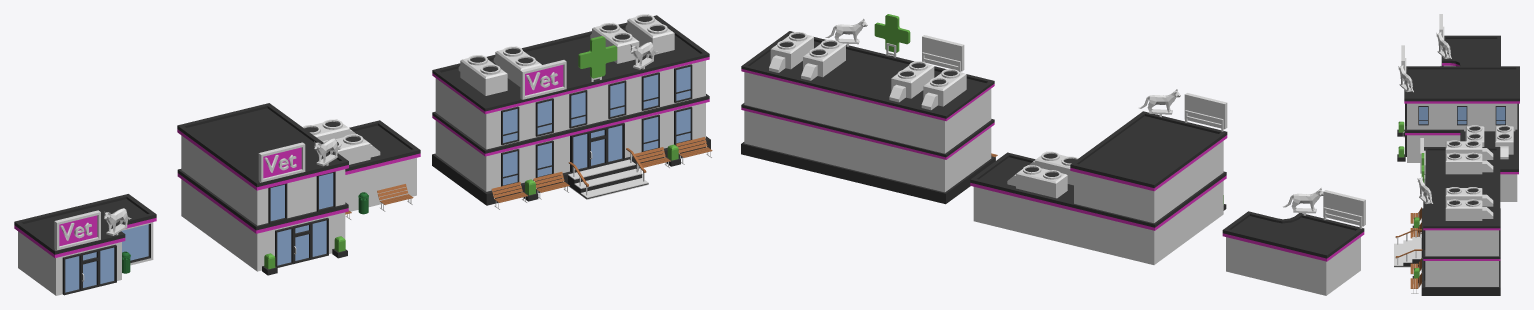
File: vet.fbx
3 views of the same model, side by side, from view 1: azimuth 30°, elevation 25°; view 2: azimuth 150°, elevation 25°; view 3: azimuth 270°, elevation 25° (orthographic). The views are drawn at different scales.
Parts seen in each view (by area): view 1: vet_t3, vet_t2, vet_t1; view 2: vet_t3, vet_t2, vet_t1; view 3: vet_t3, vet_t2, vet_t1.
Boxes of the visible parts, x1,y1,x2,y2 form: vet_t3: (432,14,712,209); vet_t2: (177,103,420,275); vet_t1: (14,194,156,295); vet_t3: (741,14,997,204); vet_t2: (970,89,1227,264); vet_t1: (1222,188,1365,295); vet_t3: (1394,138,1500,295); vet_t2: (1397,45,1519,201); vet_t1: (1436,14,1500,66).
Bounding box in the file's own units: 2922 × 608 × 684.
